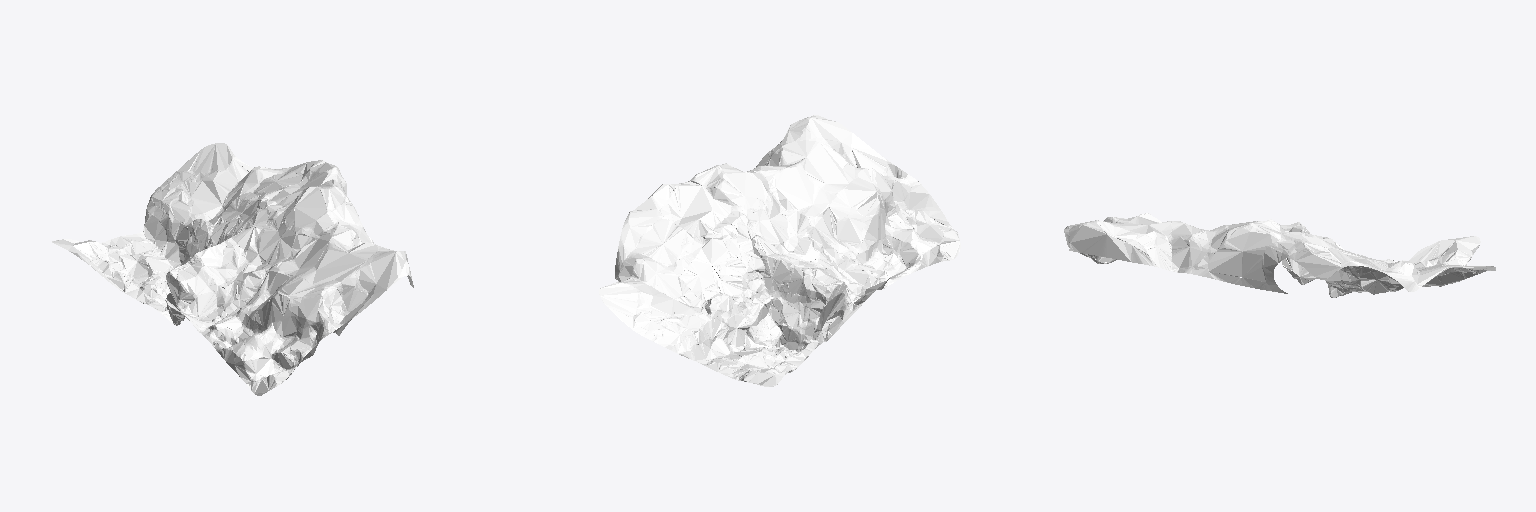
Rendered from Rock_Wall_1-1.obj.
3 renders of one model, left to right at view 1: azimuth 30°, elevation 25°; view 2: azimuth 150°, elevation 25°; view 3: azimuth 270°, elevation 25°, orthographic.
Size of the model in its own units: 29.22 by 16.89 by 51.5.